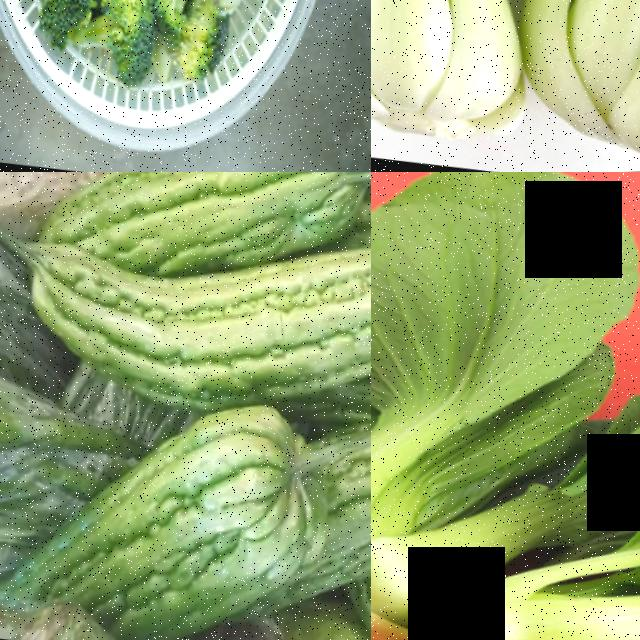bitter gourd: (5, 219, 371, 417), (53, 394, 312, 640), (15, 172, 366, 292), (291, 428, 371, 569)
bok choy: (371, 172, 497, 640), (371, 0, 587, 163), (498, 450, 640, 640), (490, 0, 640, 172)
broccoli: (43, 0, 152, 92), (135, 0, 227, 102)
